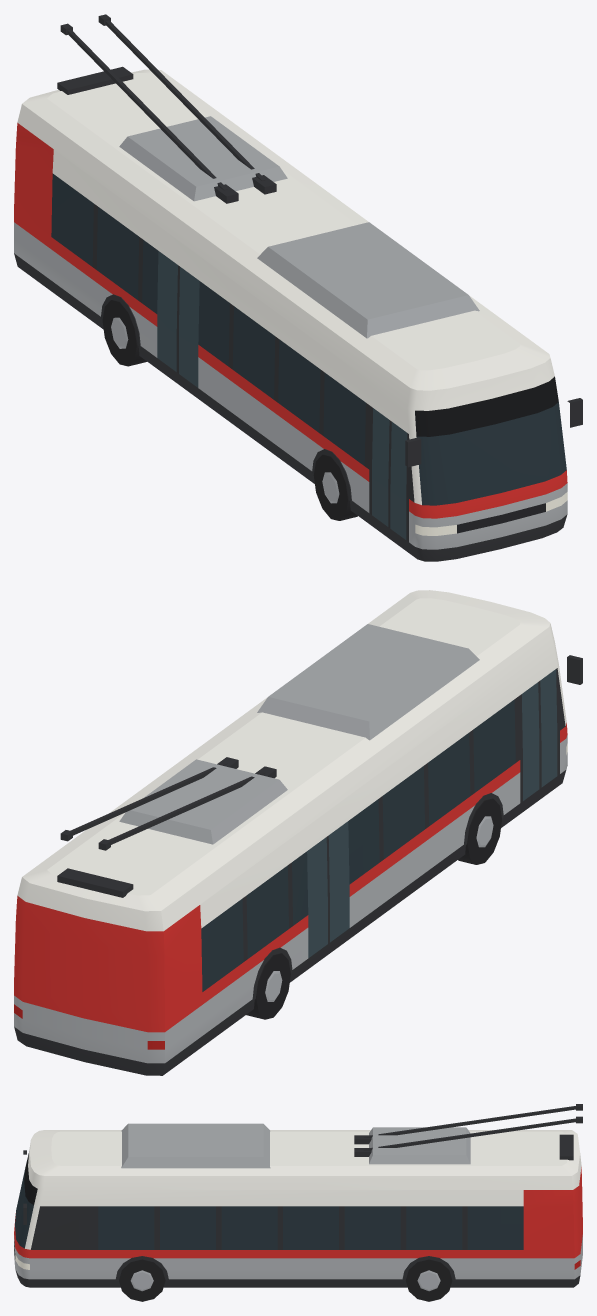
The model's file is sf_bus.glb.
3 renders of one model, top to bottom at view 1: azimuth 30°, elevation 25°; view 2: azimuth 150°, elevation 25°; view 3: azimuth 270°, elevation 25°, orthographic. The views are drawn at different scales.
Visible parts, largest first — view 1: sf_bus; view 2: sf_bus; view 3: sf_bus.
Boxes of the visible parts, x1,y1,x2,y2 form: sf_bus: (14, 14, 582, 561); sf_bus: (14, 590, 582, 1075); sf_bus: (14, 1104, 582, 1301).
Bounding box in the file's own units: 2.94 × 3.9 × 12.2.
1 material, 1 textured.
